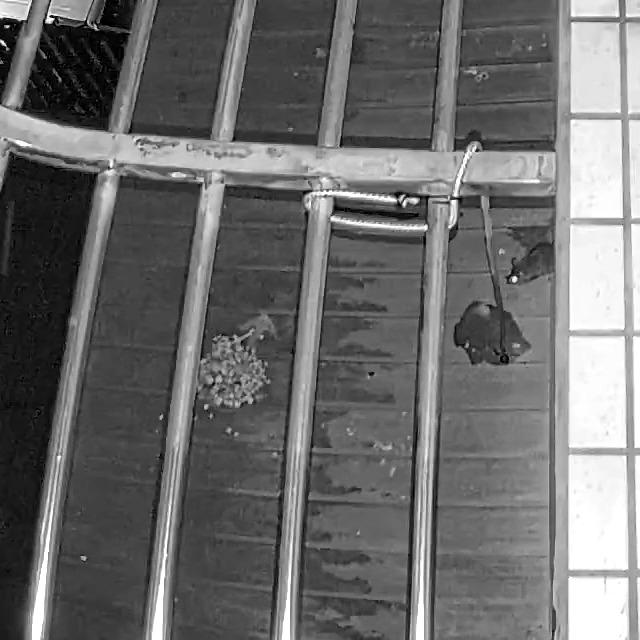rat: (503, 241, 556, 289)
